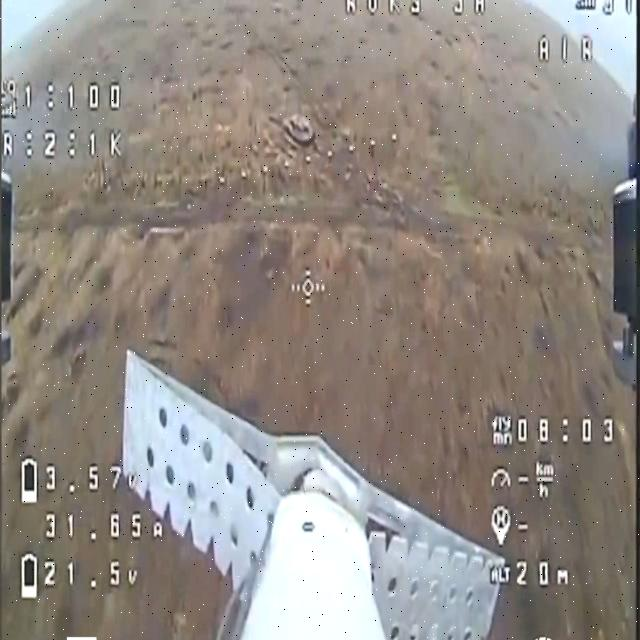MBT: (284, 113, 316, 147)
